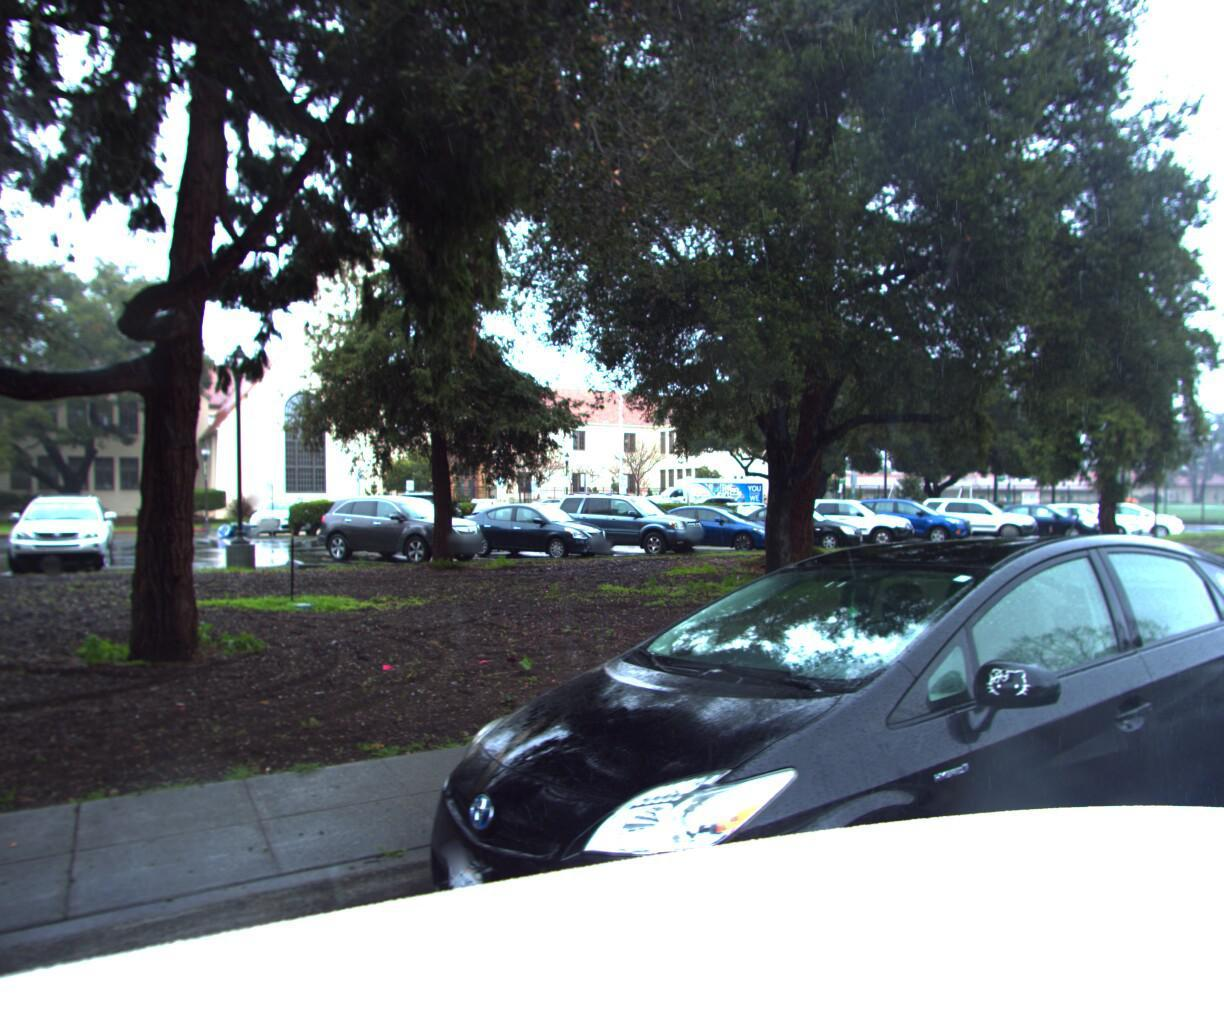car: (351, 518, 1224, 1024), (1146, 498, 1224, 786)
